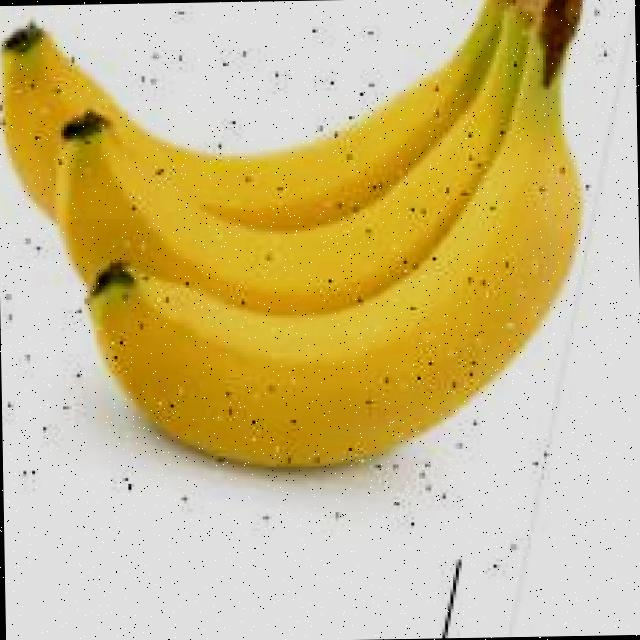banana: (0, 0, 598, 493)
